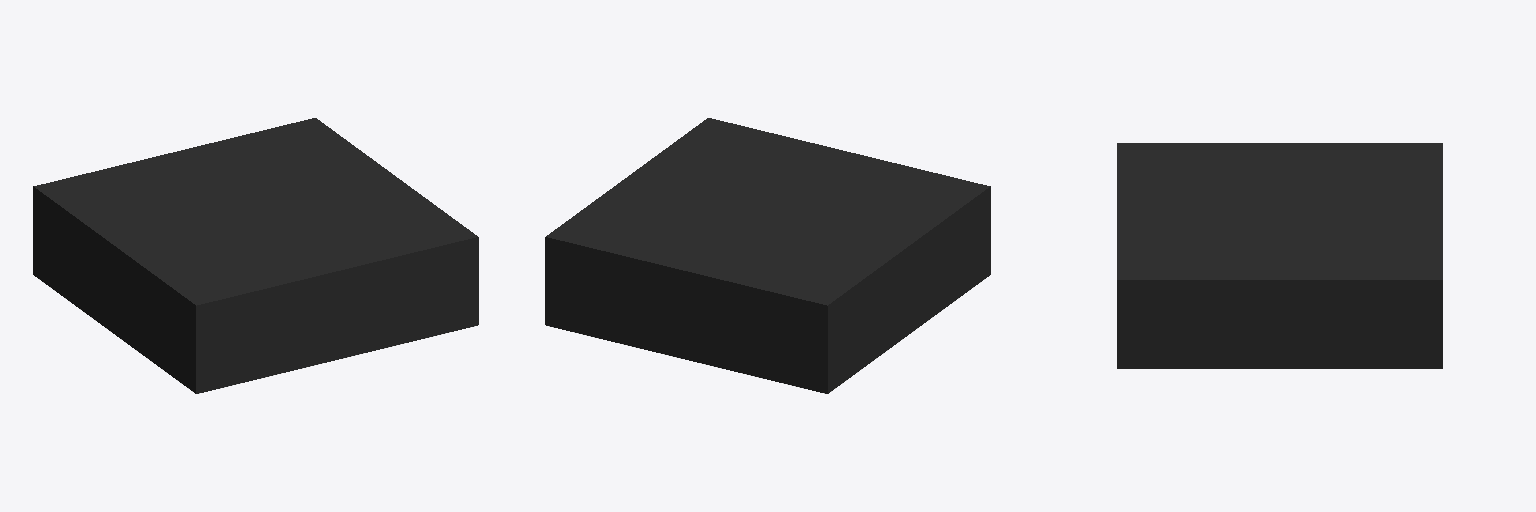
File: ceiling_light.obj
The picture shows the model from 3 angles: view 1: azimuth 30°, elevation 25°; view 2: azimuth 150°, elevation 25°; view 3: azimuth 270°, elevation 25°; orthographic projection.
Visible parts, largest first — view 1: Cube_Cube.002; view 2: Cube_Cube.002; view 3: Cube_Cube.002.
Part boxes in pixels (bbox=[...]): Cube_Cube.002: bbox=[33, 118, 478, 393]; Cube_Cube.002: bbox=[545, 118, 990, 393]; Cube_Cube.002: bbox=[1117, 143, 1442, 368].
Bounding box in the file's own units: 2 × 0.601 × 2.